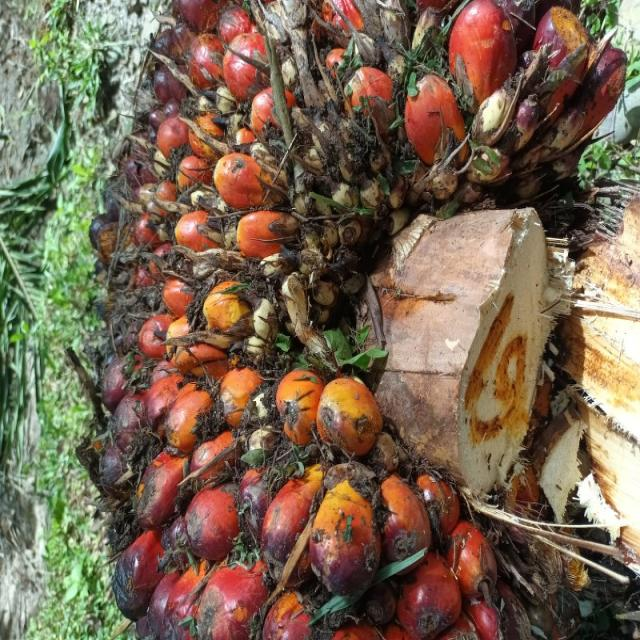fraksi 1: (6, 51, 480, 640)
